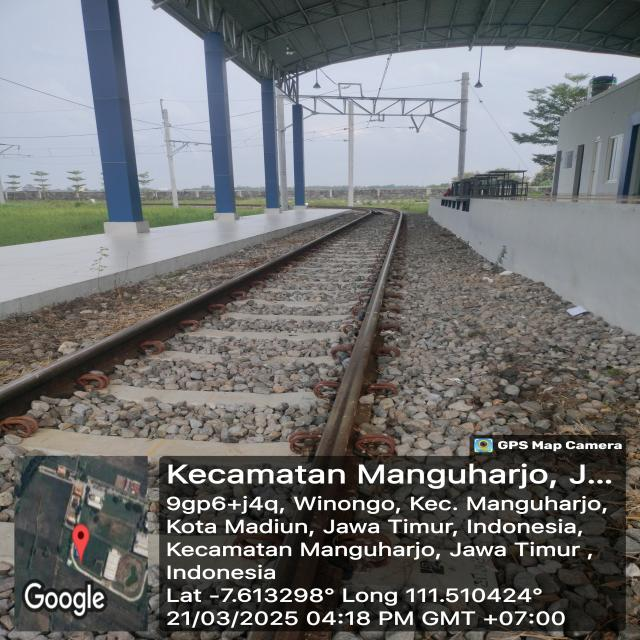rail-detection: (0, 212, 374, 419), (315, 211, 404, 459)
